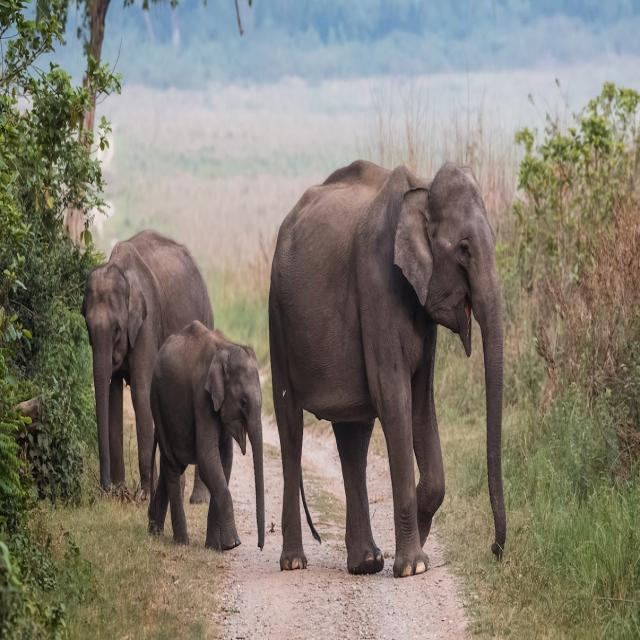Elephant: (266, 154, 512, 583), (79, 224, 226, 528), (151, 313, 272, 555)
